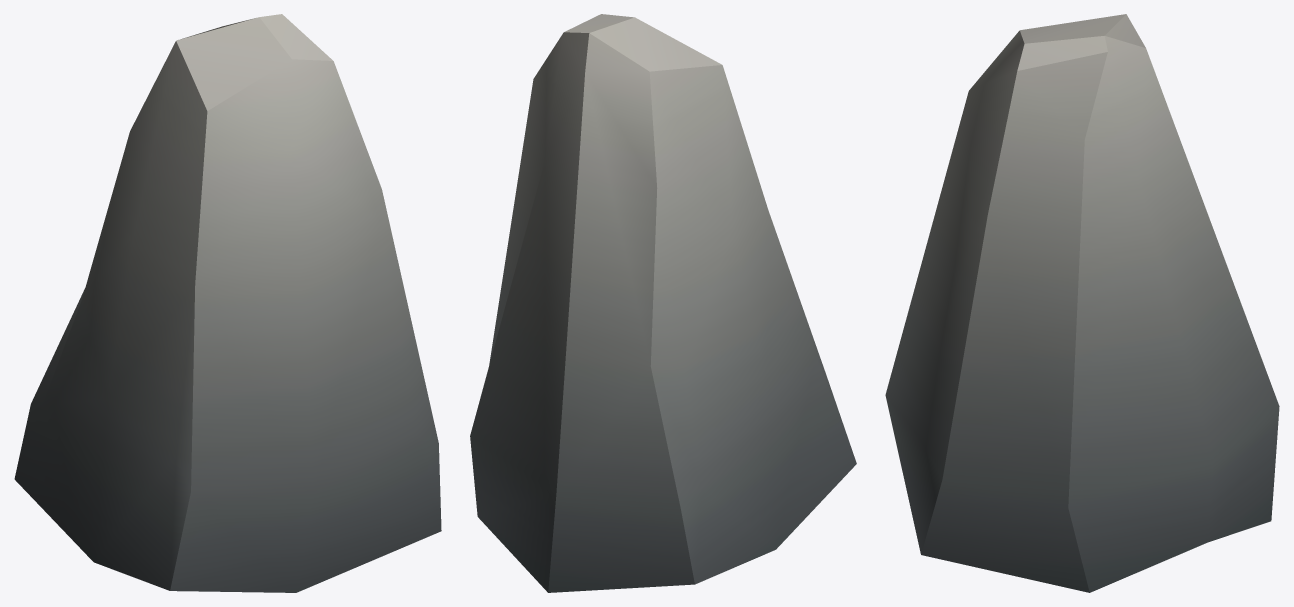
File: Rock_Small_C.fbx
3 views of the same model, side by side, from view 1: azimuth 30°, elevation 25°; view 2: azimuth 150°, elevation 25°; view 3: azimuth 270°, elevation 25° (orthographic). The views are drawn at different scales.
Visible parts, largest first — view 1: Rock_Small_C; view 2: Rock_Small_C; view 3: Rock_Small_C.
Boxes of the visible parts, left/top/right/bottom form: Rock_Small_C: left=14, top=14, right=441, bottom=592; Rock_Small_C: left=470, top=14, right=856, bottom=592; Rock_Small_C: left=885, top=14, right=1279, bottom=592.
Bounding box in the file's own units: 64.2 × 71.16 × 106.
1 material, 1 textured.
